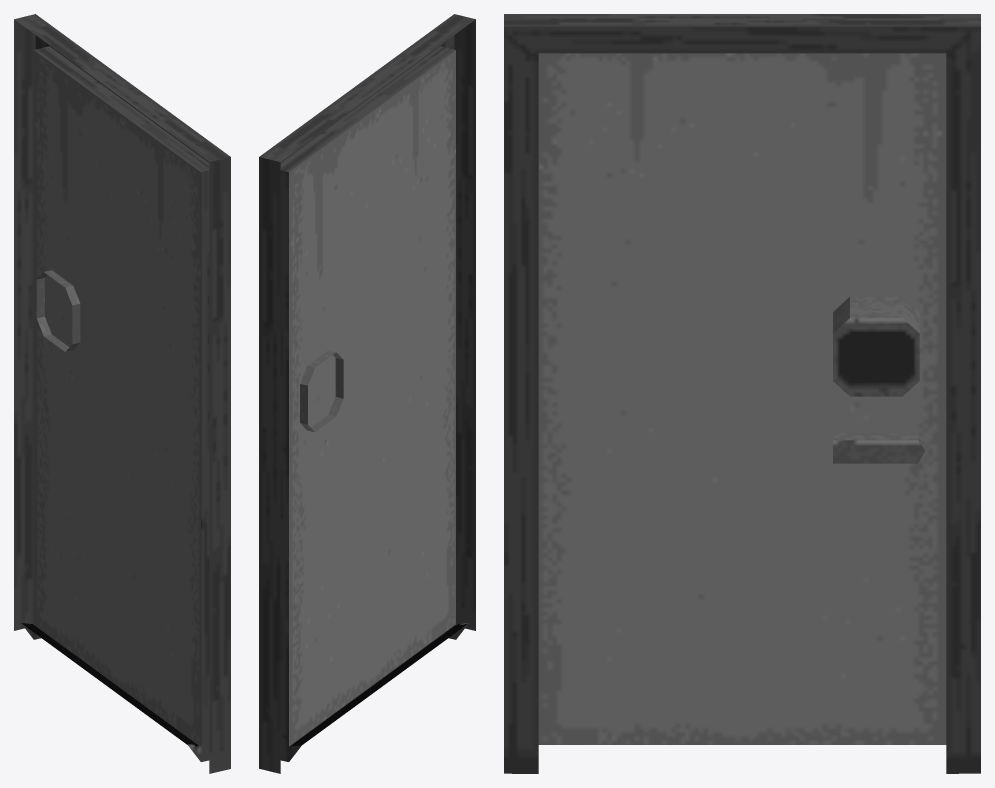
File: door.fbx
The picture shows the model from 3 angles, left to right: view 1: azimuth 30°, elevation 25°; view 2: azimuth 150°, elevation 25°; view 3: azimuth 270°, elevation 25°; orthographic projection. The views are drawn at different scales.
Parts seen in each view (by area): view 1: door; view 2: door; view 3: door.
Boxes of the visible parts, <box> form: door: <box>14,14,230,773</box>; door: <box>259,14,475,773</box>; door: <box>504,14,980,773</box>.
Size of the model in its own units: 1100 by 160 by 1902.
